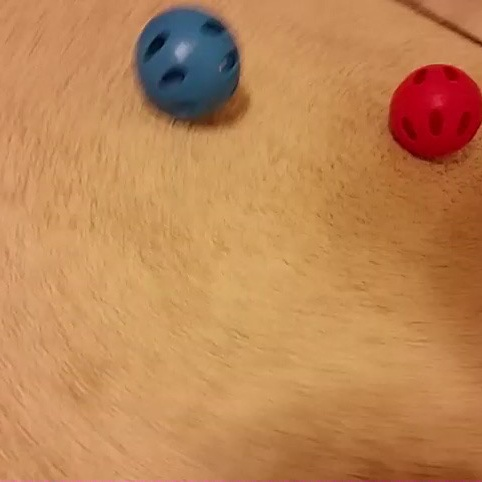blueball: (127, 2, 245, 124)
redball: (382, 60, 482, 166)
